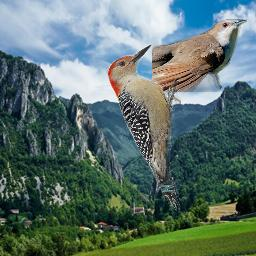Cuckoo: (152, 19, 247, 92)
Woodpecker: (108, 42, 181, 211)
